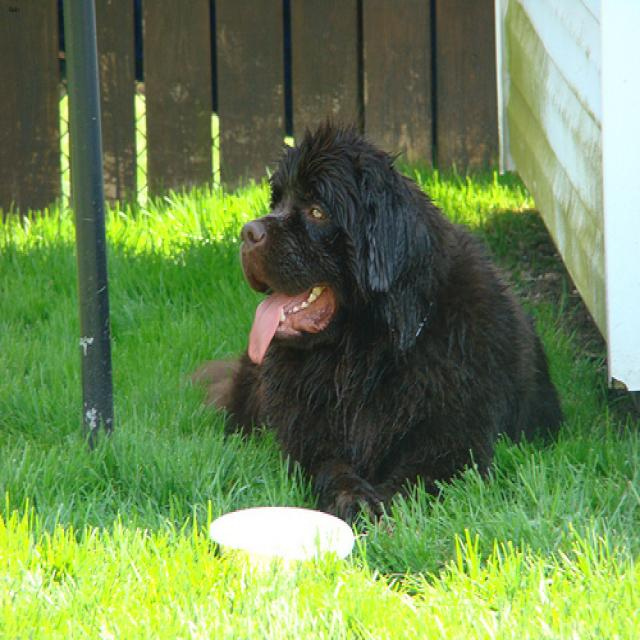dog: (240, 130, 406, 360)
